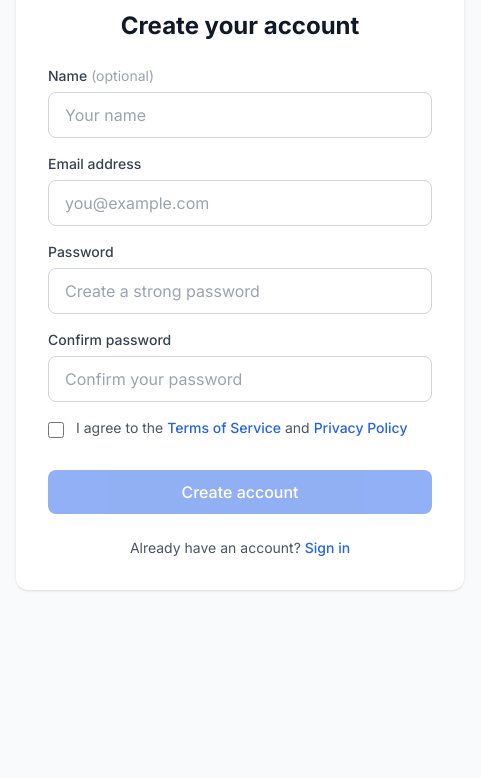
SignupForm › shows password mismatch error when passwords differ
This screenshot has width=481, height=778.
Step 1. Type "StrongPass1!" into the password field labelled "Password" → (240, 291), box [48,268,432,314]
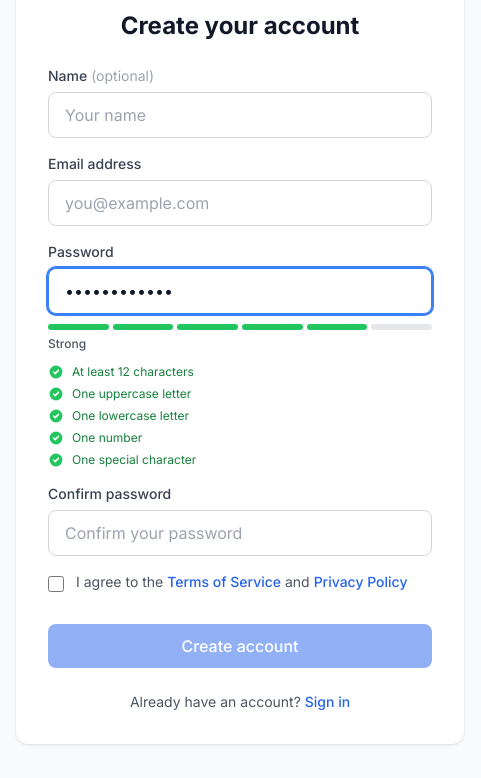
Step 2. Type "DifferentPass1!" into the password field labelled "Confirm password" → (240, 533), box [48,510,432,556]
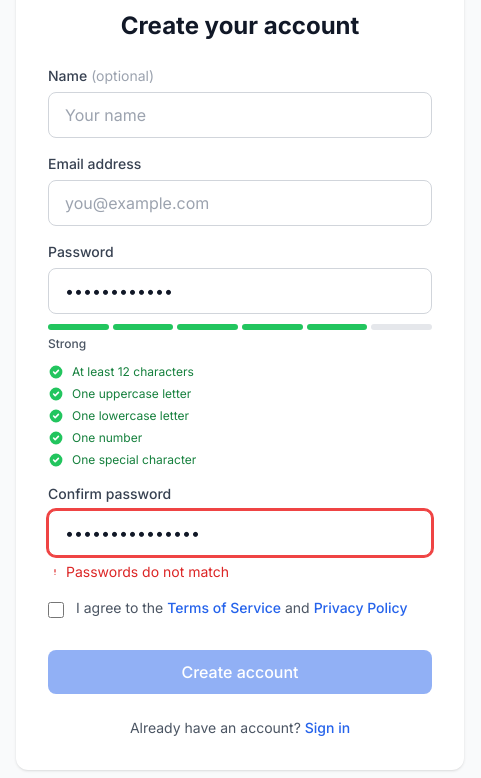
expect the text "Passwords do not match" is shown: met, box [48,563,229,580]
